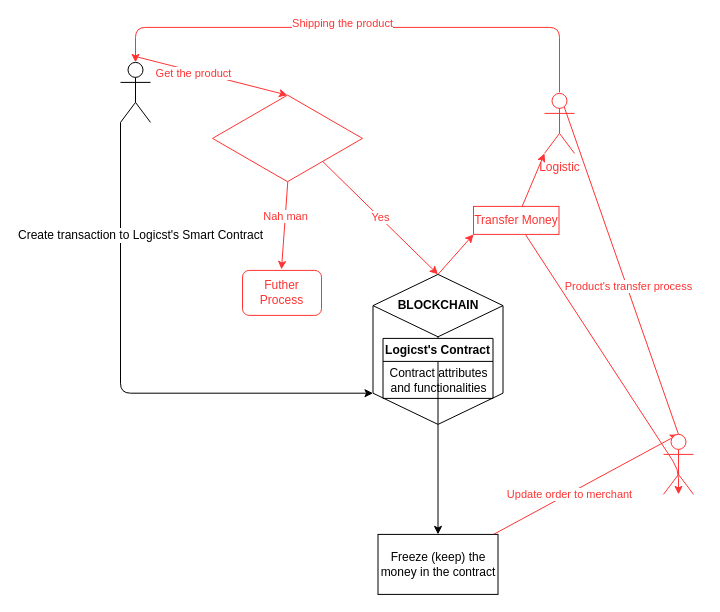
This 720x612 diagram has some shape labels left out. Each missing label, with the centre of its shape:
"Merchant" goes at point (678, 463).
"Satisfied?" goes at point (287, 137).
"University" goes at point (135, 91).
